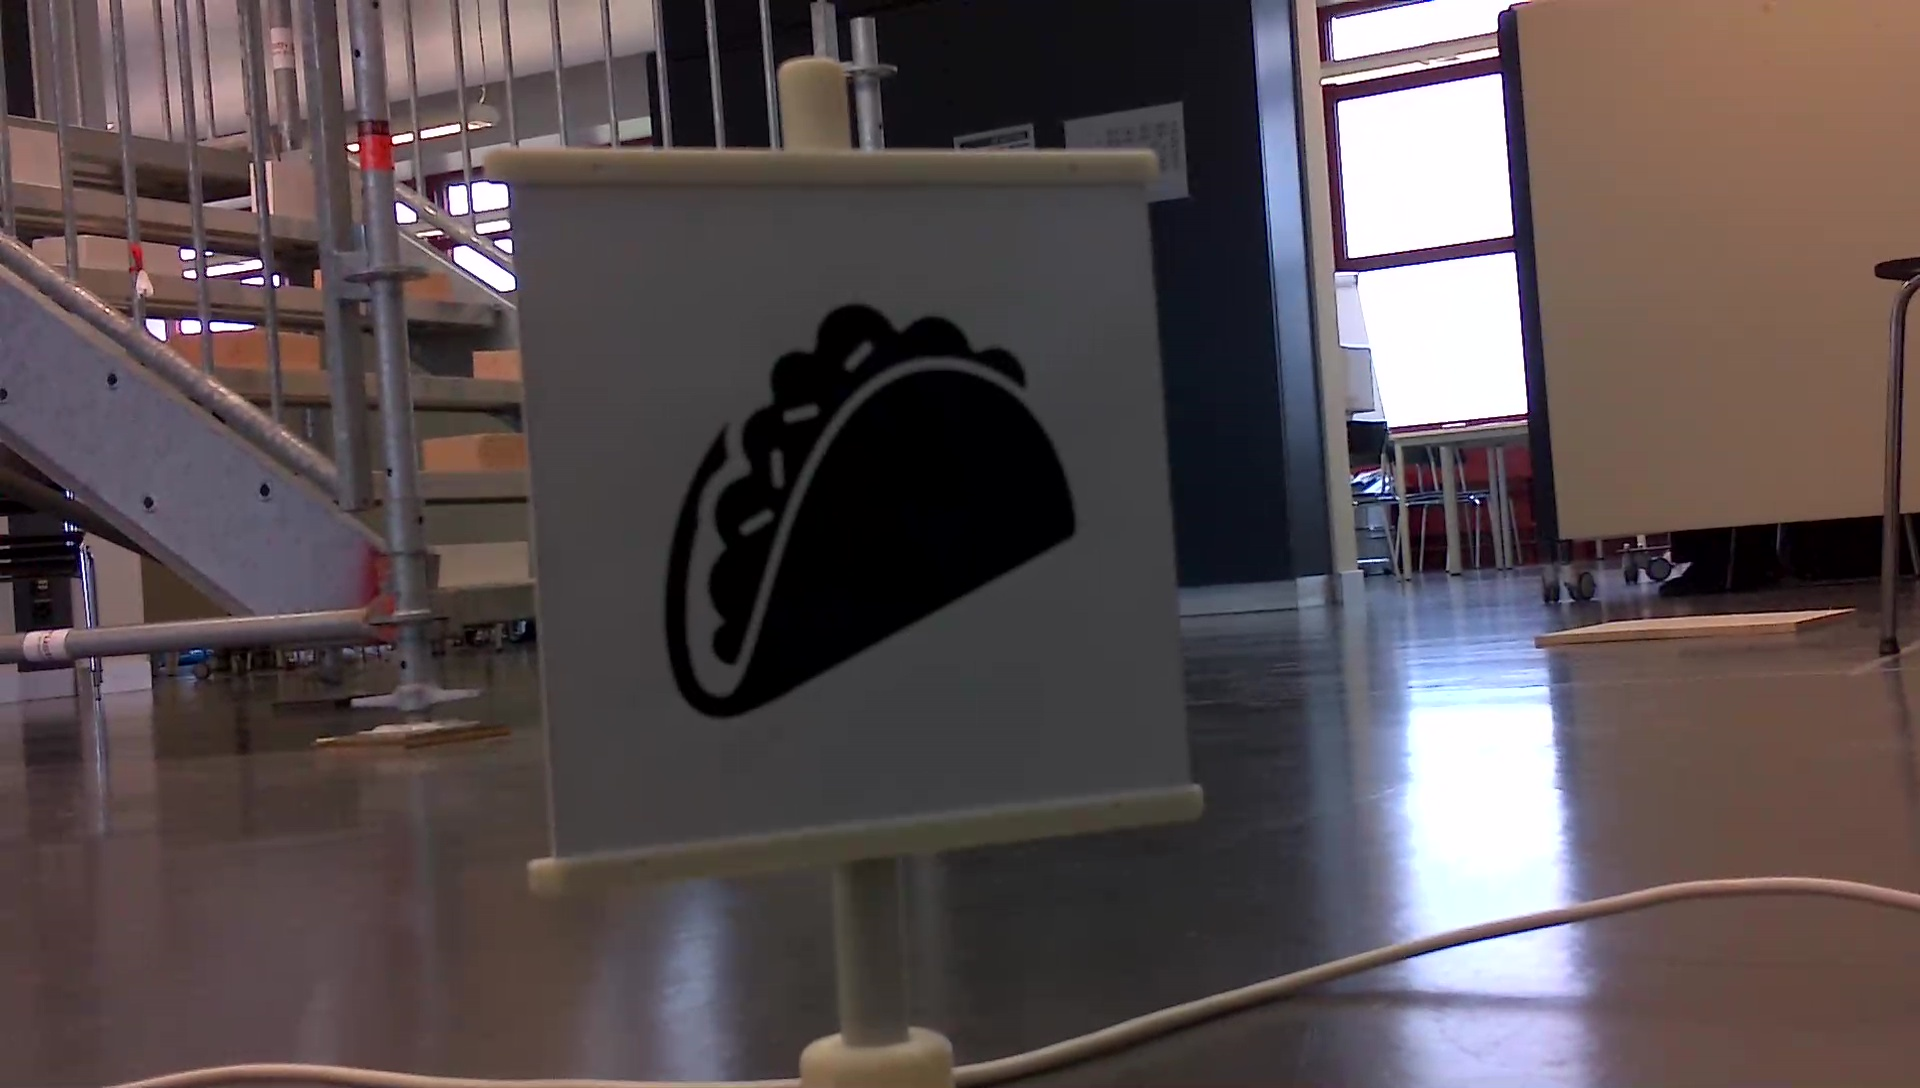brick: (422, 430, 525, 469), (438, 542, 527, 582), (472, 348, 521, 378)
taco: (650, 293, 1085, 731)
